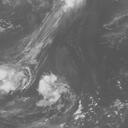cyclone: (37, 72, 75, 109)
